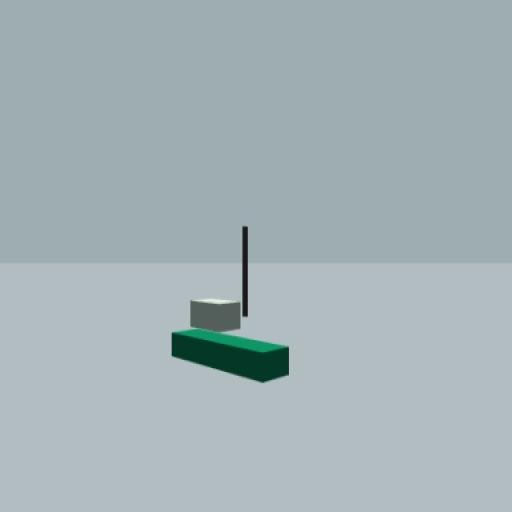fishing_boat: (172, 226, 291, 384)
